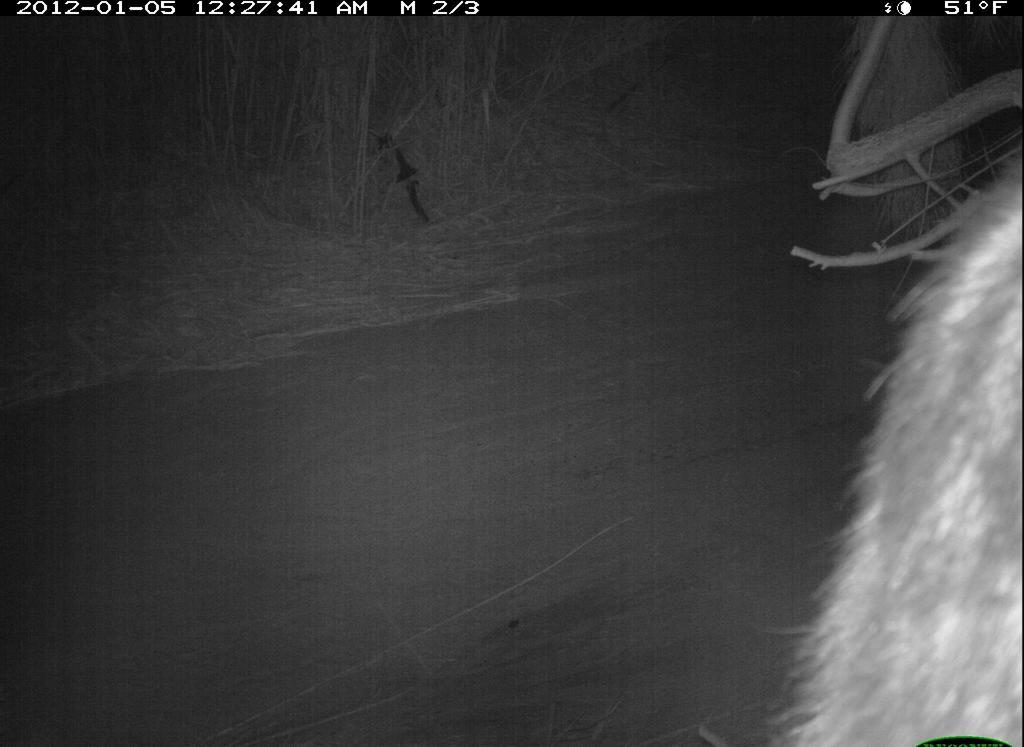raccoon: (777, 150, 1021, 747)
